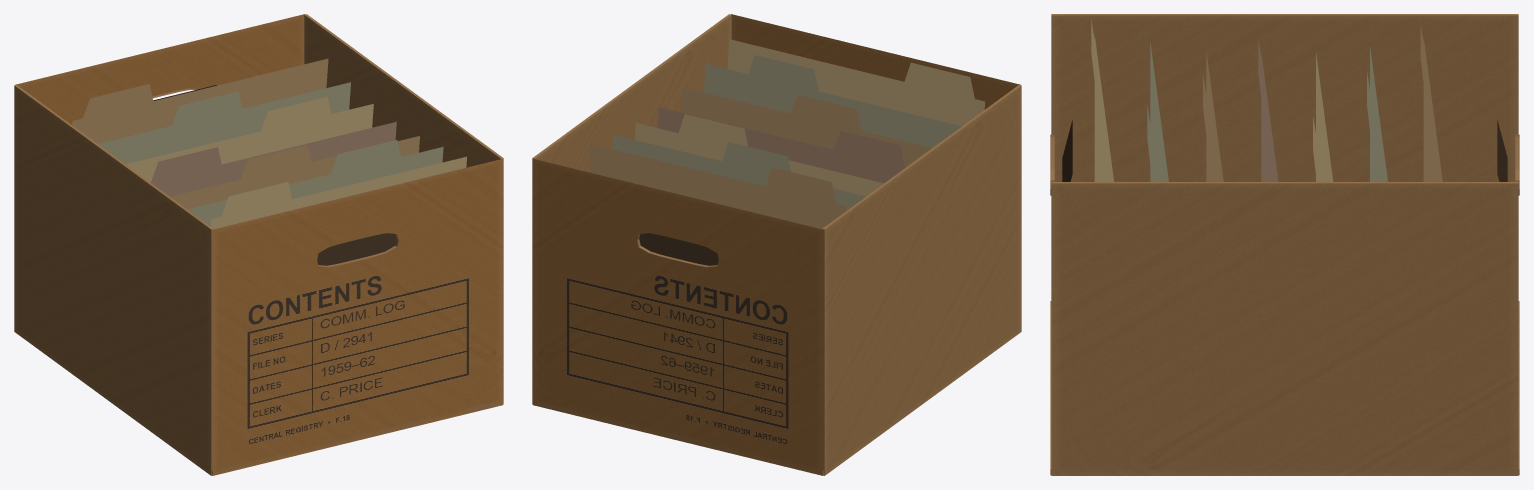
The model's file is record_case_0.gltf.
The picture shows the model from 3 angles, left to right: view 1: azimuth 30°, elevation 25°; view 2: azimuth 150°, elevation 25°; view 3: azimuth 270°, elevation 25°; orthographic projection. The views are drawn at different scales.
Parts seen in each view (by area): view 1: record_case_0; view 2: record_case_0; view 3: record_case_0.
Part boxes in pixels (left/top/right/bottom): record_case_0: left=14, top=14, right=503, bottom=475; record_case_0: left=532, top=14, right=1021, bottom=475; record_case_0: left=1050, top=14, right=1519, bottom=475.
Size of the model in its own units: 0.344 by 0.2908 by 0.403.
11 materials, 2 textured.
